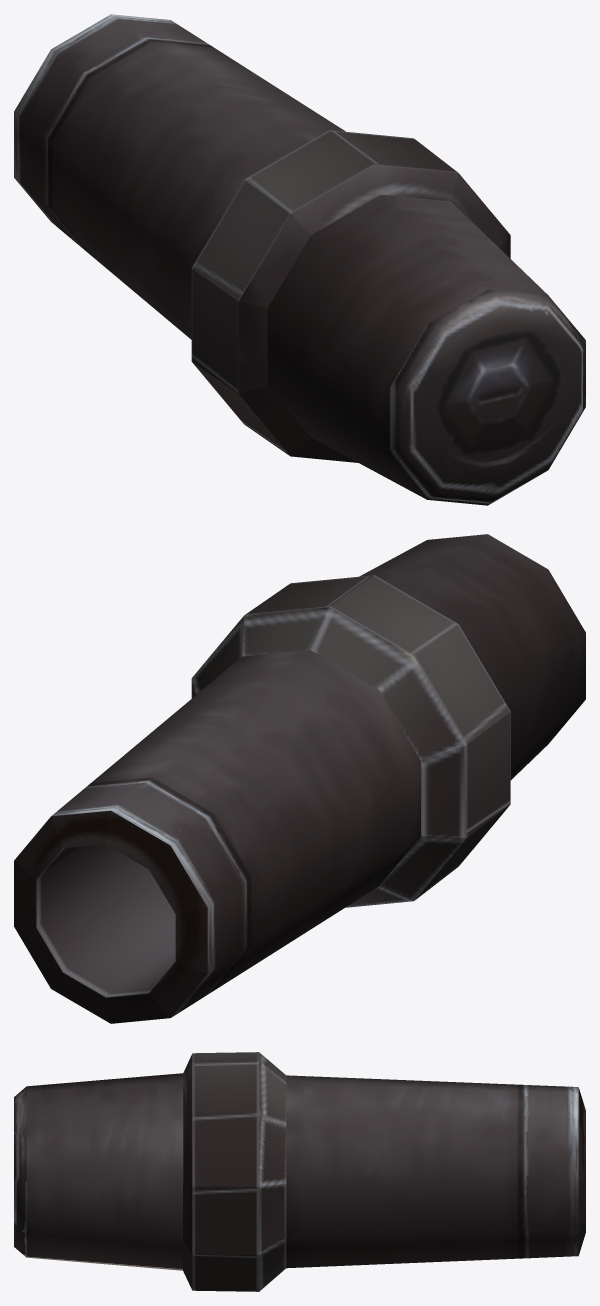
Rendered from Tower_Canon.DAE.
The picture shows the model from 3 angles, top to bottom: view 1: azimuth 30°, elevation 25°; view 2: azimuth 150°, elevation 25°; view 3: azimuth 270°, elevation 25°; orthographic projection. The views are drawn at different scales.
Visible parts, largest first — view 1: Tower_Canon; view 2: Tower_Canon; view 3: Tower_Canon.
Part boxes in pixels (x1=…): Tower_Canon: x1=14, y1=14, x2=585, y2=505; Tower_Canon: x1=14, y1=534, x2=585, y2=1023; Tower_Canon: x1=14, y1=1052, x2=585, y2=1291.
Size of the model in its own units: 0.5071 by 0.5331 by 1.25.
